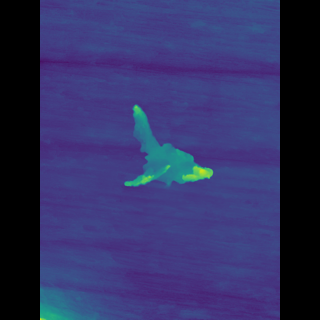Loch: (129, 98, 200, 197)
